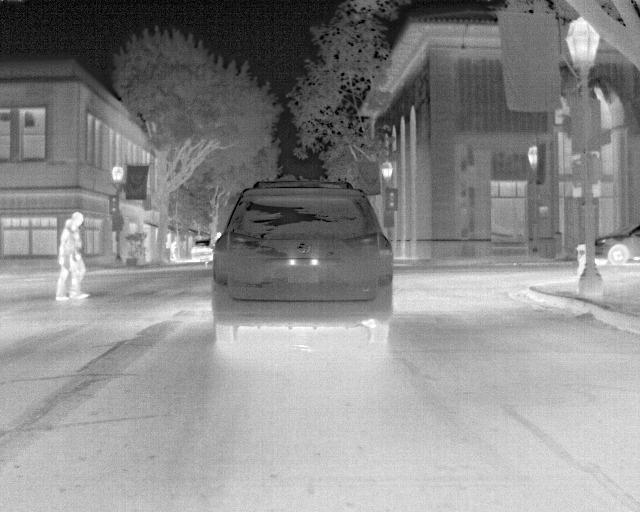bicycle: (212, 180, 396, 344), (593, 224, 639, 267), (188, 238, 215, 261)
empty: (53, 220, 76, 302), (70, 210, 89, 296)
